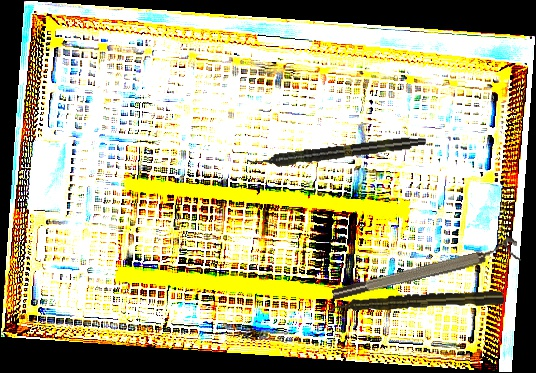Fixation Ring: (329, 235, 521, 304)
Handpiece: (246, 133, 427, 171), (329, 289, 505, 315)
